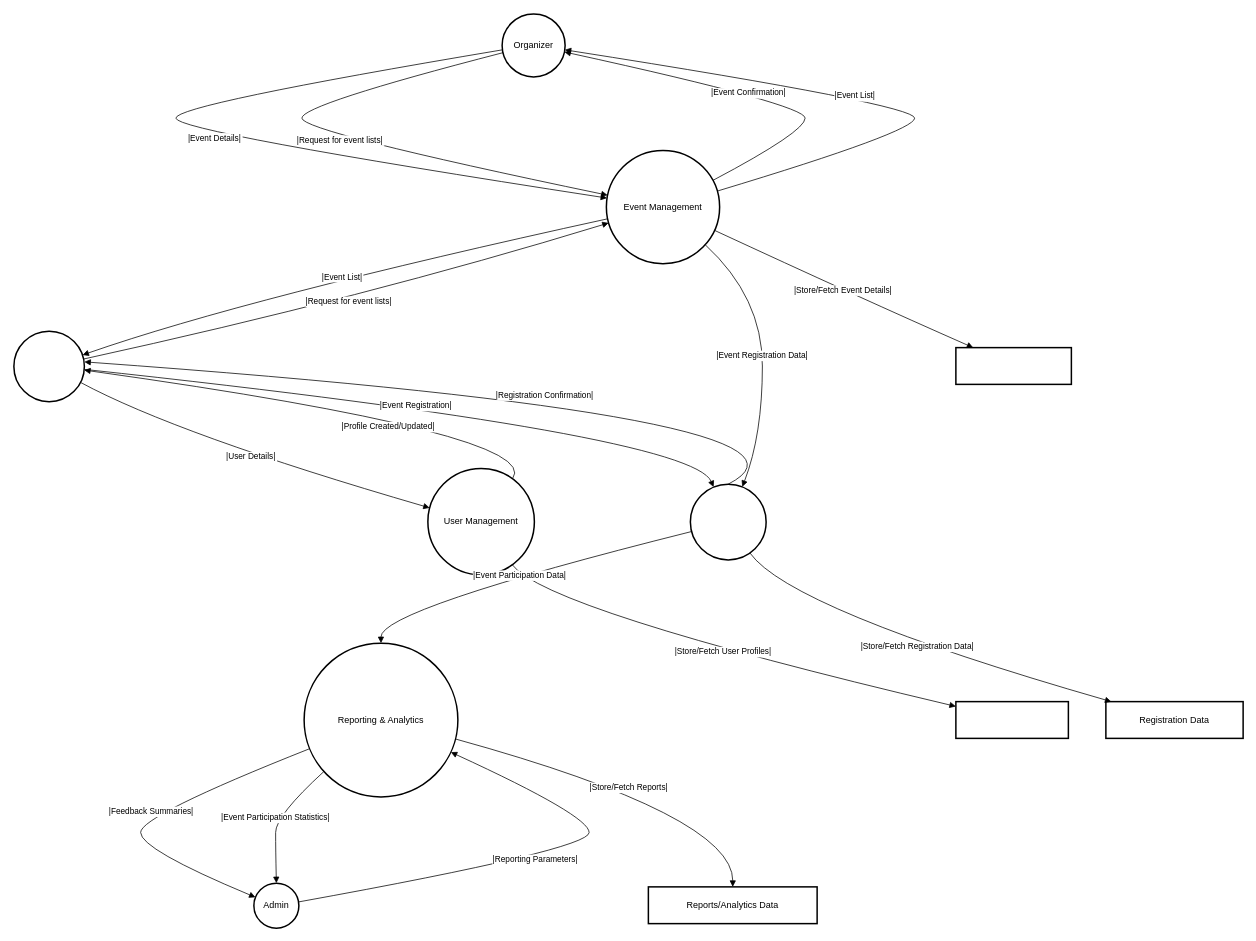
Image size: 1256x941. Some labels were removed from this diagram. The centre of each missing label's shape, as x and y in pixels:
"Event Details" belongs at point (1013, 365).
"Participant" belongs at point (49, 366).
"Registration" belongs at point (727, 521).
"User Profiles" belongs at point (1012, 719).
